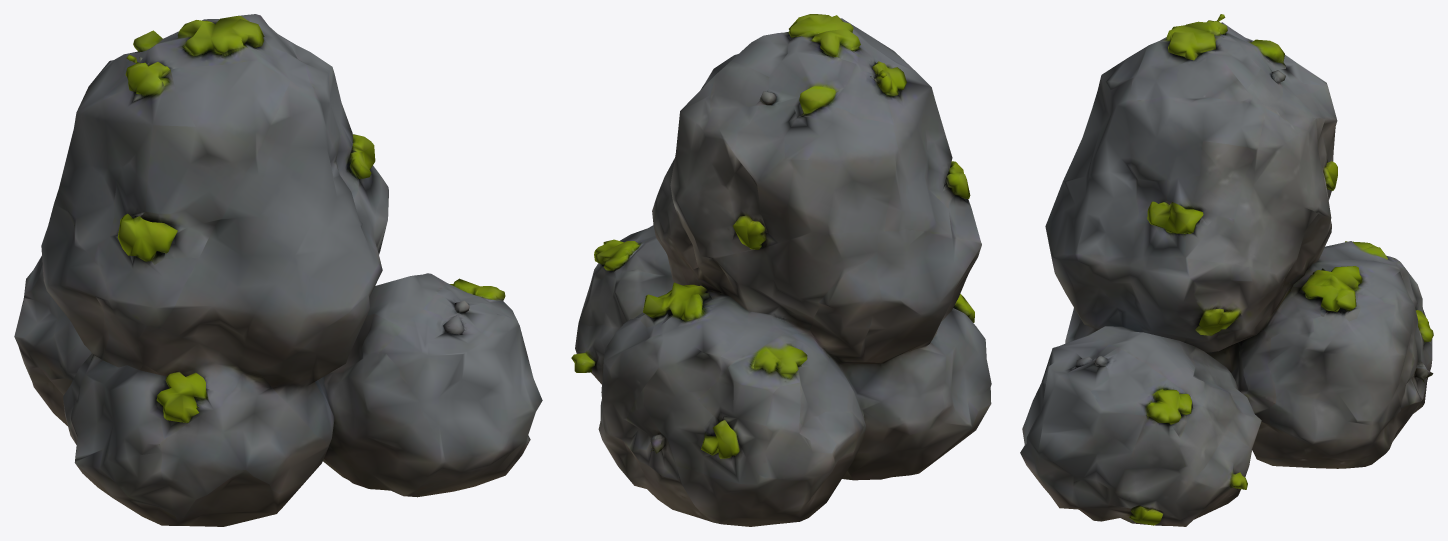
File: rocks.glb
3 views of the same model, side by side, from view 1: azimuth 30°, elevation 25°; view 2: azimuth 150°, elevation 25°; view 3: azimuth 270°, elevation 25° (orthographic). The views are drawn at different scales.
Parts seen in each view (by area): view 1: tripo_node_b0b1d44a-9b4f-4a13-a1ba-32fa575f3050; view 2: tripo_node_b0b1d44a-9b4f-4a13-a1ba-32fa575f3050; view 3: tripo_node_b0b1d44a-9b4f-4a13-a1ba-32fa575f3050.
Boxes of the visible parts, x1,y1,x2,y2 form: tripo_node_b0b1d44a-9b4f-4a13-a1ba-32fa575f3050: (14, 14, 542, 526); tripo_node_b0b1d44a-9b4f-4a13-a1ba-32fa575f3050: (571, 14, 991, 526); tripo_node_b0b1d44a-9b4f-4a13-a1ba-32fa575f3050: (1020, 14, 1433, 526).
Size of the model in its own units: 0.9519 by 0.9989 by 0.9292.
1 material, 1 textured.
